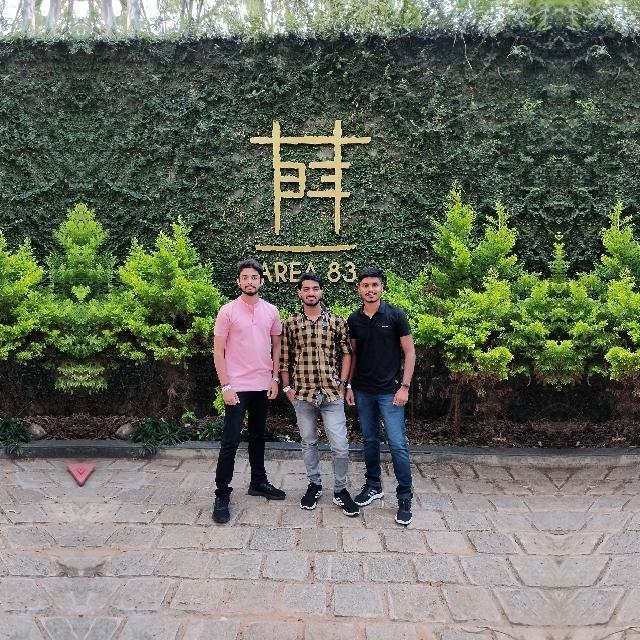person: (202, 251, 286, 554), (282, 260, 362, 542), (349, 270, 423, 540)
